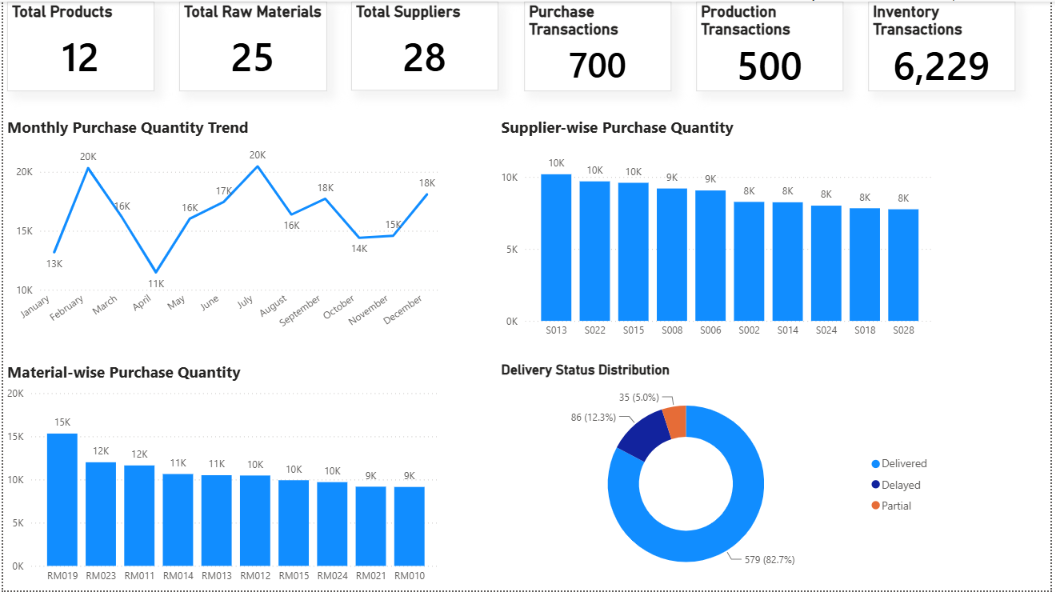

What the dashboard file says about the page in this screenshot:
{"tool":"powerbi","page":{"name":"Purchase Quantity Analysis","canvas":[1280,720],"ordinal":0},"visuals":[{"type":"card","title":"Total Products","fields":{"Values":["Measures (2).Total Products"]},"box":[4.9,0,180,109.8],"z":0},{"type":"card","title":"Total Raw Materials","fields":{"Values":["Measures (2).Total Raw Materials"]},"box":[215.3,0,180.5,109.8],"z":1000},{"type":"card","title":"Total Suppliers","fields":{"Values":["Measures (2).Total Suppliers"]},"box":[426.1,0,180,109],"z":2000},{"type":"card","title":"Purchase Transactions","fields":{"Values":["Measures (2).Total Purchase Transactions"]},"box":[636.5,0,180,109.8],"z":3000},{"type":"card","title":"Production Transactions","fields":{"Values":["Measures (2).Total Production Transactions"]},"box":[846.9,0,180,109.8],"z":4000},{"type":"card","title":"Inventory Transactions","fields":{"Values":["Measures (2).Total Inventory Transactions"]},"box":[1057.3,0,180,109.8],"z":5000},{"type":"lineChart","title":"Monthly Purchase Quantity Trend","fields":{"Category":["Purchase_Transactions.Purchase_Date.Variation.Date Hierarchy.Month"],"Y":["Measures (2).Total Purchase Quantity"]},"box":[0,141,540,280],"z":6000},{"type":"clusteredColumnChart","title":"Supplier-wise Purchase Quantity","fields":{"Category":["Purchase_Transactions.Supplier_ID"],"Y":["Measures (2).Total Purchase Quantity"]},"box":[604,141,540,280],"z":7000},{"type":"clusteredColumnChart","title":"Material-wise Purchase Quantity","fields":{"Category":["Purchase_Transactions.Material_ID"],"Y":["Measures (2).Total Purchase Quantity"]},"box":[0,440,540,280],"z":8000},{"type":"donutChart","title":"Delivery Status Distribution","fields":{"Category":["Purchase_Transactions.Delivery_Status"],"Y":["CountNonNull(Purchase_Transactions.Purchase_ID)"]},"box":[604,440,540,280],"z":9000}]}

Visuals, with their boxes in screenshot pixels (x1, y1, x2, y2), scaled from the page's 1280x720 canvas onto the 1055x594 screenshot:
"Total Products" card: box(4, 0, 152, 91)
"Total Raw Materials" card: box(177, 0, 326, 91)
"Total Suppliers" card: box(351, 0, 500, 90)
"Purchase Transactions" card: box(525, 0, 673, 91)
"Production Transactions" card: box(698, 0, 846, 91)
"Inventory Transactions" card: box(871, 0, 1020, 91)
"Monthly Purchase Quantity Trend" lineChart: box(0, 116, 445, 347)
"Supplier-wise Purchase Quantity" clusteredColumnChart: box(498, 116, 943, 347)
"Material-wise Purchase Quantity" clusteredColumnChart: box(0, 363, 445, 593)
"Delivery Status Distribution" donutChart: box(498, 363, 943, 593)
